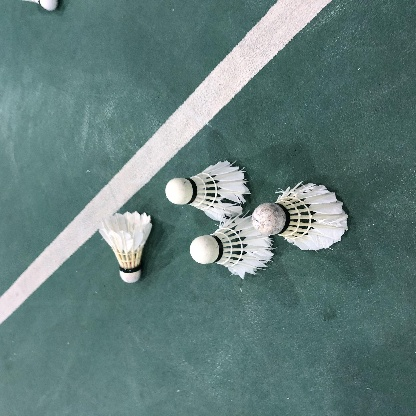ball_single: (252, 183, 348, 251), (190, 213, 273, 279), (165, 160, 251, 222), (98, 211, 152, 283), (22, 0, 59, 10)
